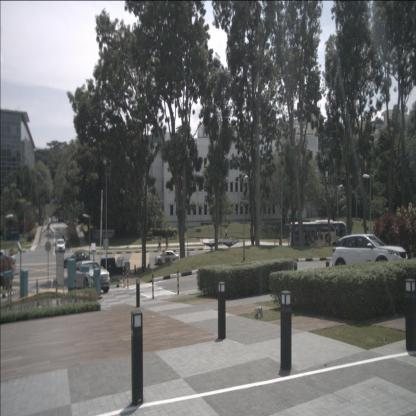human-pedestrian-adult: (157, 236, 162, 251), (159, 235, 162, 250), (279, 233, 282, 247), (225, 227, 228, 239), (166, 235, 168, 250)
vehicle-bus-rigid: (288, 220, 348, 248), (0, 213, 20, 240)
vehicle-car: (331, 232, 408, 266), (74, 260, 111, 293), (64, 251, 90, 268), (154, 249, 179, 266), (0, 248, 17, 267), (56, 238, 66, 252), (51, 215, 58, 222)
